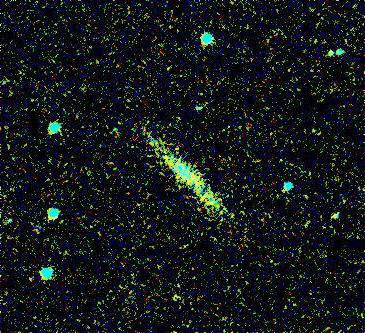star: (17, 261, 47, 291)
